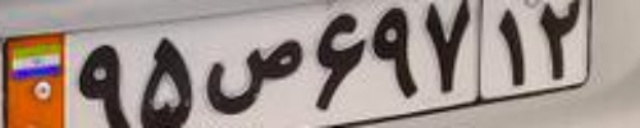1: (498, 8, 525, 86)
2: (539, 0, 581, 80)
5: (140, 37, 194, 127)
6: (314, 12, 366, 110)
7: (425, 0, 472, 94)
9: (79, 43, 131, 127), (372, 5, 416, 98)
saat: (203, 38, 303, 115)
